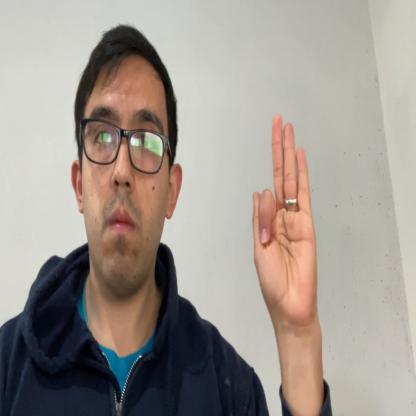F: (253, 116, 318, 323)
